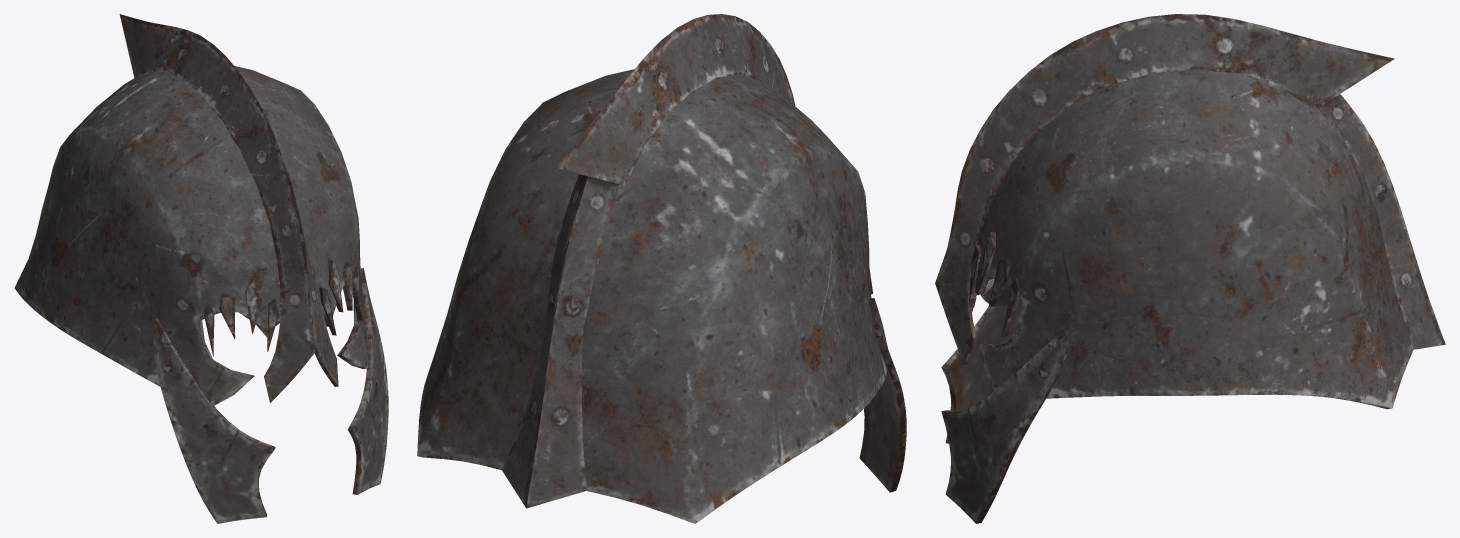
Rendered from sk_gb_uruk_helmet_heavy_g.fbx.
3 renders of one model, left to right at view 1: azimuth 30°, elevation 25°; view 2: azimuth 150°, elevation 25°; view 3: azimuth 270°, elevation 25°, orthographic. The views are drawn at different scales.
Parts seen in each view (by area): view 1: sk_gb_uruk_helmet_heavy_g; view 2: sk_gb_uruk_helmet_heavy_g; view 3: sk_gb_uruk_helmet_heavy_g.
Boxes of the visible parts, x1=… form: sk_gb_uruk_helmet_heavy_g: x1=14, y1=14, x2=388, y2=523; sk_gb_uruk_helmet_heavy_g: x1=417, y1=14, x2=906, y2=523; sk_gb_uruk_helmet_heavy_g: x1=935, y1=14, x2=1445, y2=523.
Size of the model in its own units: 0.2467 by 0.3211 by 0.3218.
Materials: 1 (1 with a texture image).
